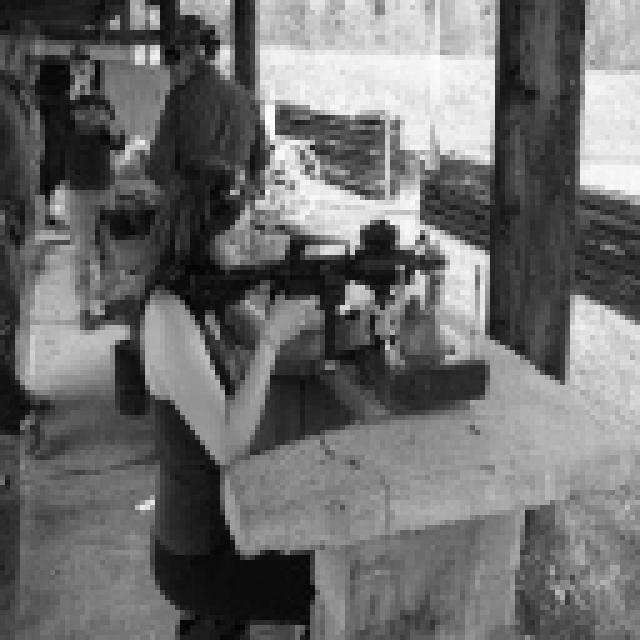Rifle: (164, 200, 476, 380)
